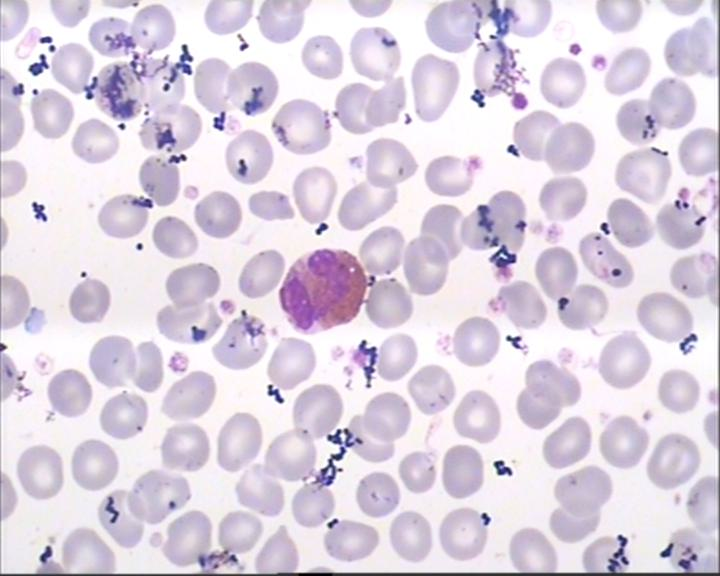eosi: (271, 245, 373, 339)
